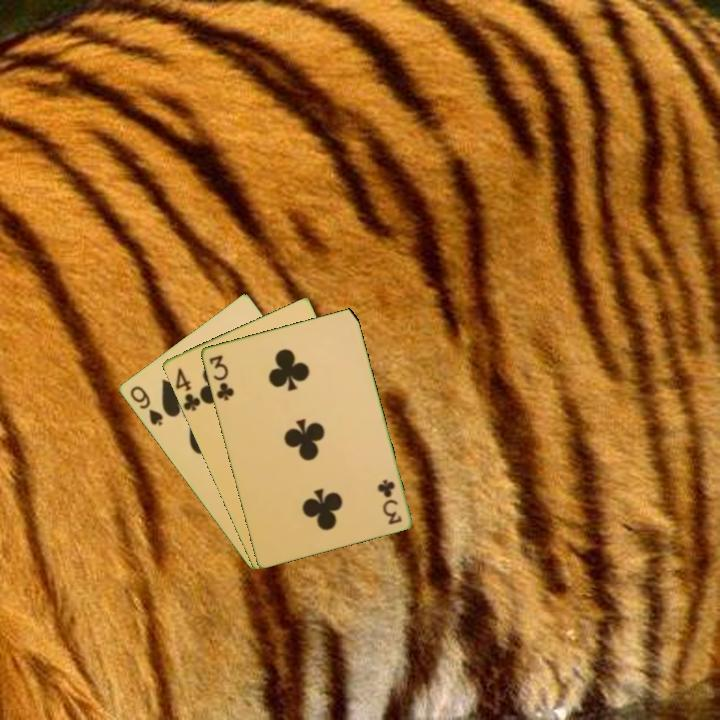3c: (205, 351, 236, 403), (375, 475, 404, 527)
4c: (172, 364, 203, 414)
9s: (126, 382, 166, 429)
